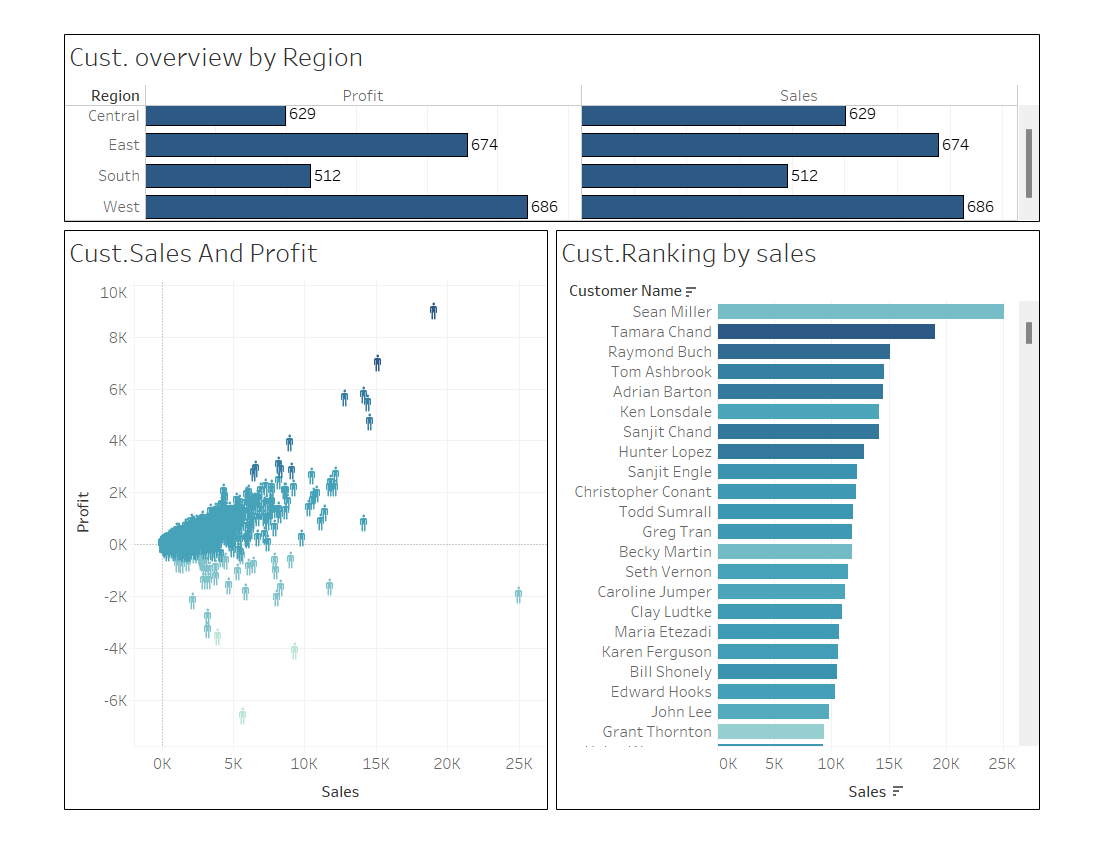

The dashboard page shown, as its layout file describes it:
{"tool":"tableau","page":{"name":"Customer perfomance","canvas":[1000,800],"ordinal":0},"visuals":[{"type":"worksheet","title":"Cust. overview by Region","mark":"Automatic","rows":["Region"],"box":[8,8,984,196]},{"type":"worksheet","title":"Cust.Sales and profit","mark":"Automatic","rows":["Profit"],"cols":["Sales"],"box":[8,204,492,588]},{"type":"worksheet","title":"Cust.ranking By sales","mark":"Automatic","rows":["Customer Name"],"cols":["Sales"],"box":[500,204,492,588]}]}

Visuals, with their boxes on the page's 1000x800 design canvas (x1, y1, x2, y2). These are canvas units, not pixel positions in the 1093x846 screenshot, which may show the page scaled, cropped or inside an application window:
"Cust. overview by Region" worksheet: box(8, 8, 992, 204)
"Cust.Sales and profit" worksheet: box(8, 204, 500, 792)
"Cust.ranking By sales" worksheet: box(500, 204, 992, 792)
